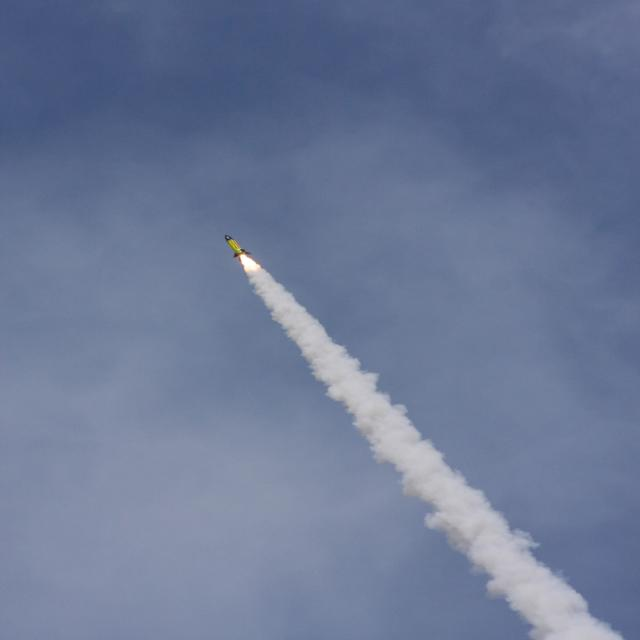Rocket: (224, 234, 252, 262)
